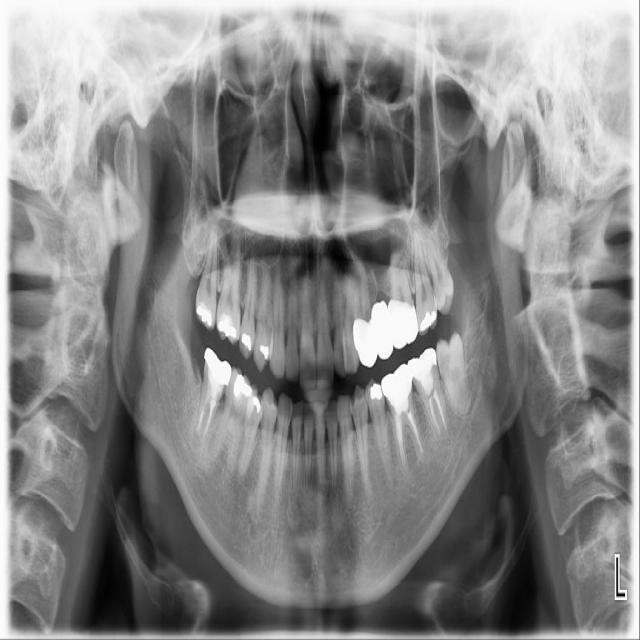3M ESPE Implant: (194, 216, 219, 333)
52: (337, 285, 432, 374), (374, 361, 423, 410), (221, 364, 262, 422), (401, 345, 450, 392), (203, 347, 233, 398), (250, 320, 277, 374), (414, 286, 440, 336), (215, 296, 241, 345), (195, 288, 217, 333), (236, 317, 257, 361), (365, 378, 386, 415), (245, 389, 264, 427)
73: (383, 383, 429, 478), (412, 369, 467, 445), (194, 370, 227, 443), (618, 605, 632, 614)
BioHorizons Implant: (412, 226, 440, 336)
BioLife Implant: (421, 230, 459, 317)
Biomet 3i Implant: (432, 328, 473, 419)
Blue Sky Bio Implant: (404, 346, 452, 447)
Caries: (214, 216, 247, 347)
Implant: (194, 346, 235, 444)
